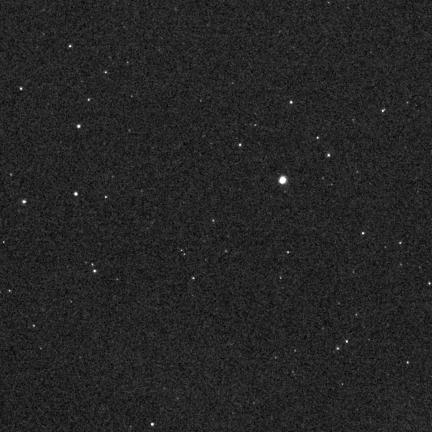blob: (279, 176, 286, 184), (326, 153, 331, 159), (74, 192, 78, 196), (69, 44, 72, 48), (88, 98, 91, 102), (290, 101, 293, 105), (382, 109, 385, 112), (20, 87, 23, 90), (77, 125, 80, 128)
